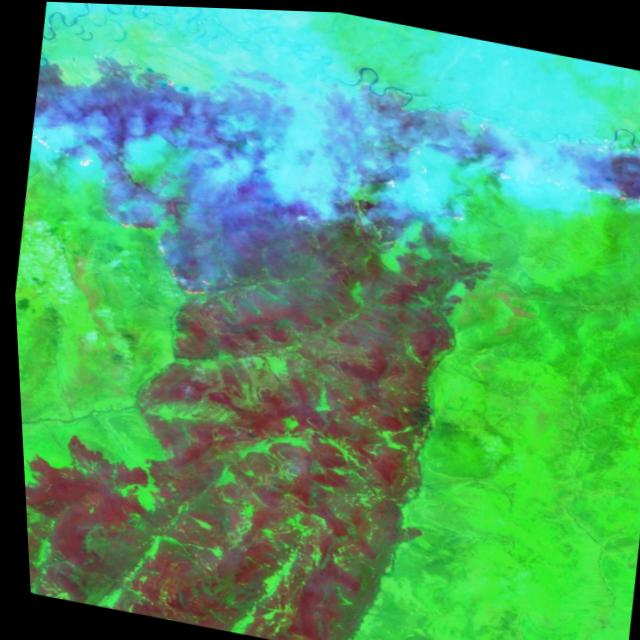fire: (335, 62, 640, 282), (20, 125, 238, 308)
